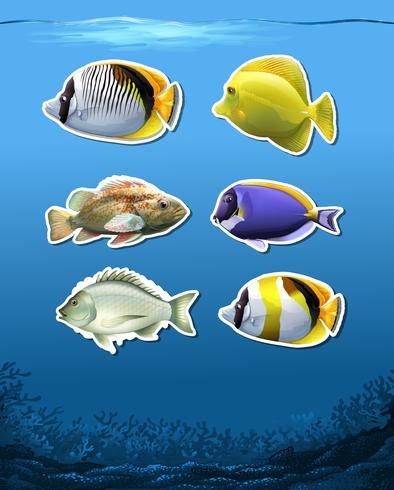fish: (33, 50, 201, 141), (45, 267, 199, 360), (209, 54, 349, 152), (217, 263, 353, 355), (33, 181, 194, 247), (203, 177, 338, 244)
